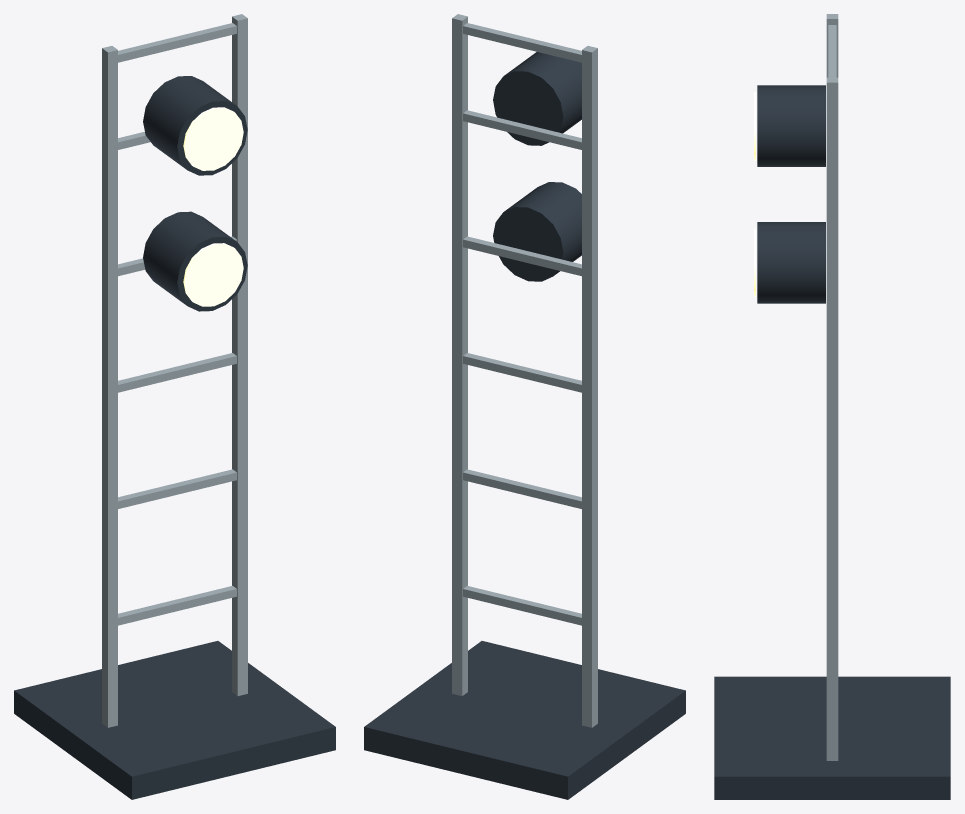
File: lighting-truss.glb
3 renders of one model, left to right at view 1: azimuth 30°, elevation 25°; view 2: azimuth 150°, elevation 25°; view 3: azimuth 270°, elevation 25°, orthographic.
Visible parts, largest first — view 1: lighting-truss; view 2: lighting-truss; view 3: lighting-truss.
Part boxes in pixels (x1=…): lighting-truss: x1=14, y1=14, x2=335, y2=799; lighting-truss: x1=364, y1=14, x2=685, y2=799; lighting-truss: x1=714, y1=14, x2=950, y2=799.
Size of the model in its own units: 1.1 by 3.6 by 1.1.
